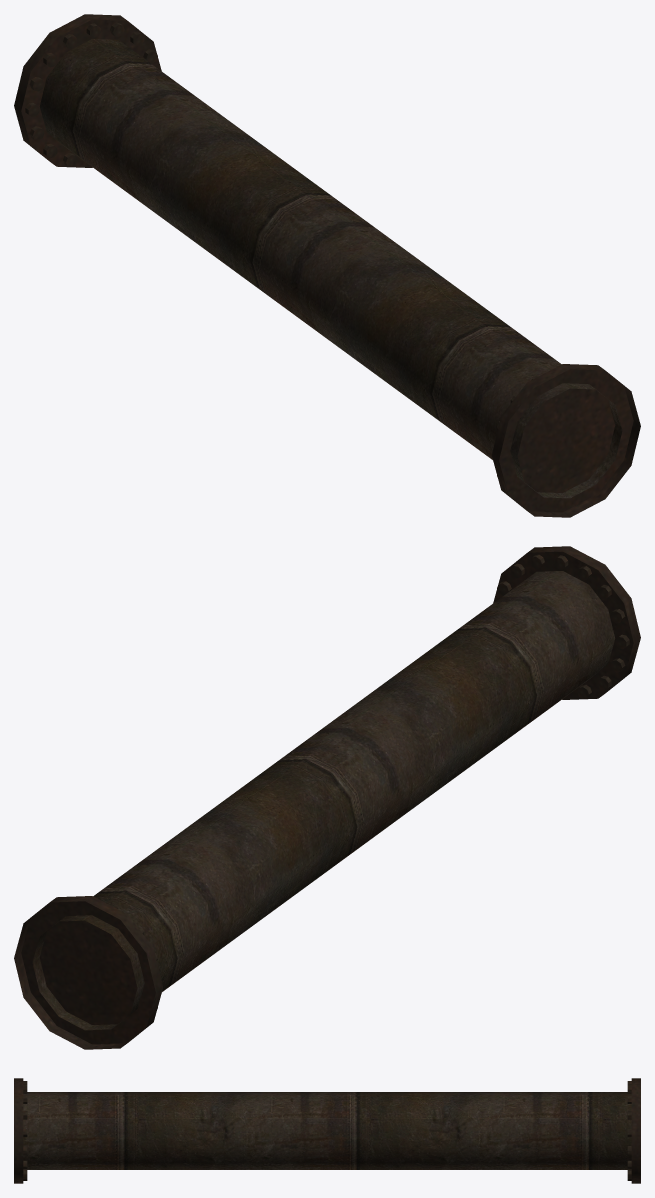
Rendered from pipe_bx_1.obj.
3 renders of one model, top to bottom at view 1: azimuth 30°, elevation 25°; view 2: azimuth 150°, elevation 25°; view 3: azimuth 270°, elevation 25°, orthographic. The views are drawn at different scales.
Visible parts, largest first — view 1: pipe_bx_1; view 2: pipe_bx_1; view 3: pipe_bx_1.
Part boxes in pixels (x1,y1,x2,y2): pipe_bx_1: [14, 14, 640, 517]; pipe_bx_1: [14, 546, 640, 1049]; pipe_bx_1: [14, 1078, 640, 1183].
Size of the model in its own units: 0.676 by 0.676 by 4.
